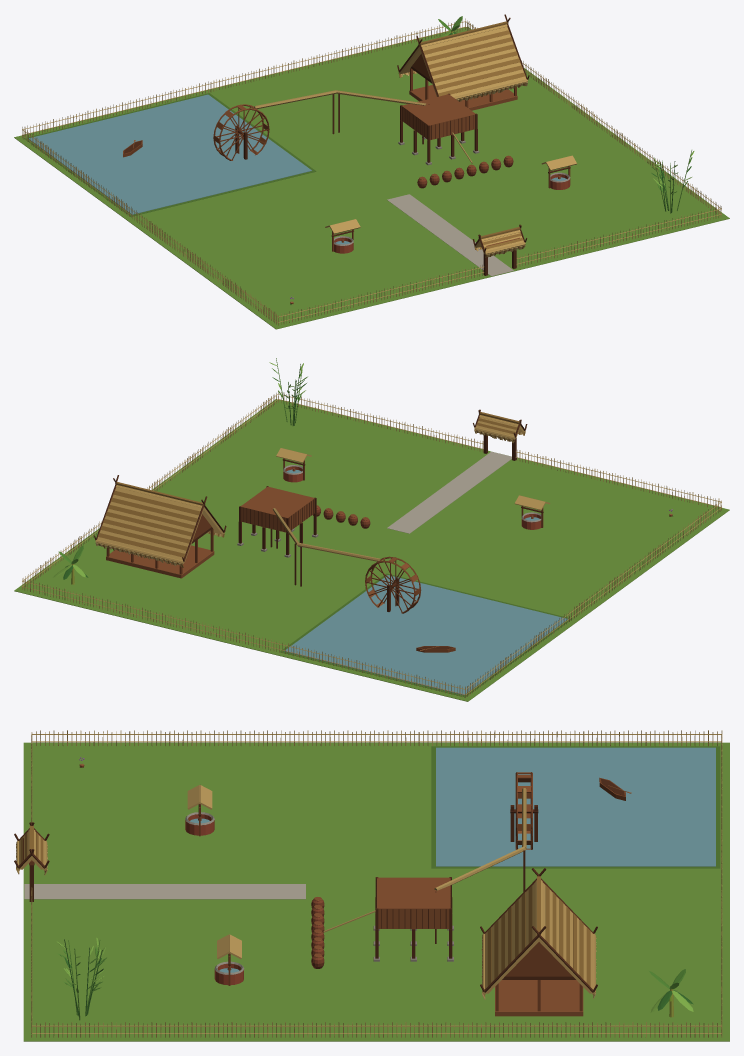
Rendered from water_works.glb.
The picture shows the model from 3 angles, top to bottom: view 1: azimuth 30°, elevation 25°; view 2: azimuth 150°, elevation 25°; view 3: azimuth 270°, elevation 25°; orthographic projection. The views are drawn at different scales.
Visible parts, largest first — view 1: body; view 2: body; view 3: body.
Part boxes in pixels (<box>): body: <box>14,14,729,329</box>; body: <box>14,358,729,701</box>; body: <box>14,730,729,1041</box>.
Size of the model in its own units: 47.9 by 7.45 by 48.56.
